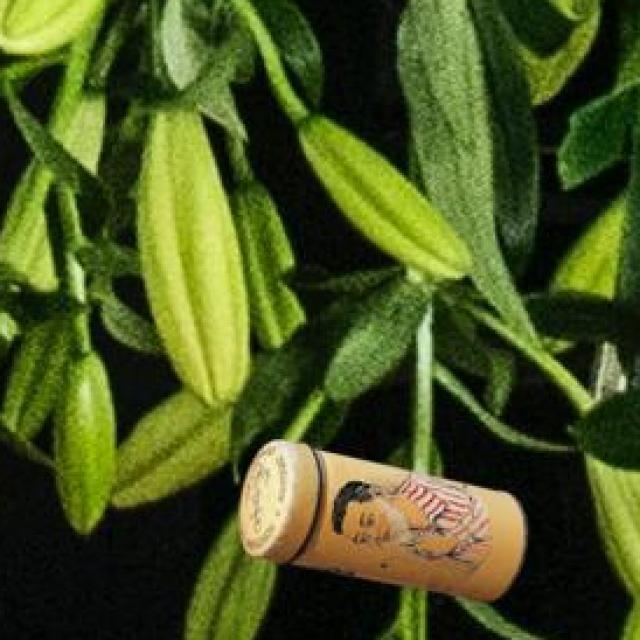logam: (235, 445, 524, 606)
